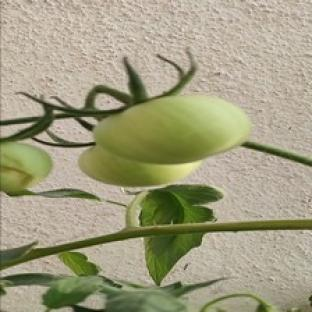Tomato: (94, 95, 250, 164), (78, 147, 200, 186), (0, 143, 52, 192)
